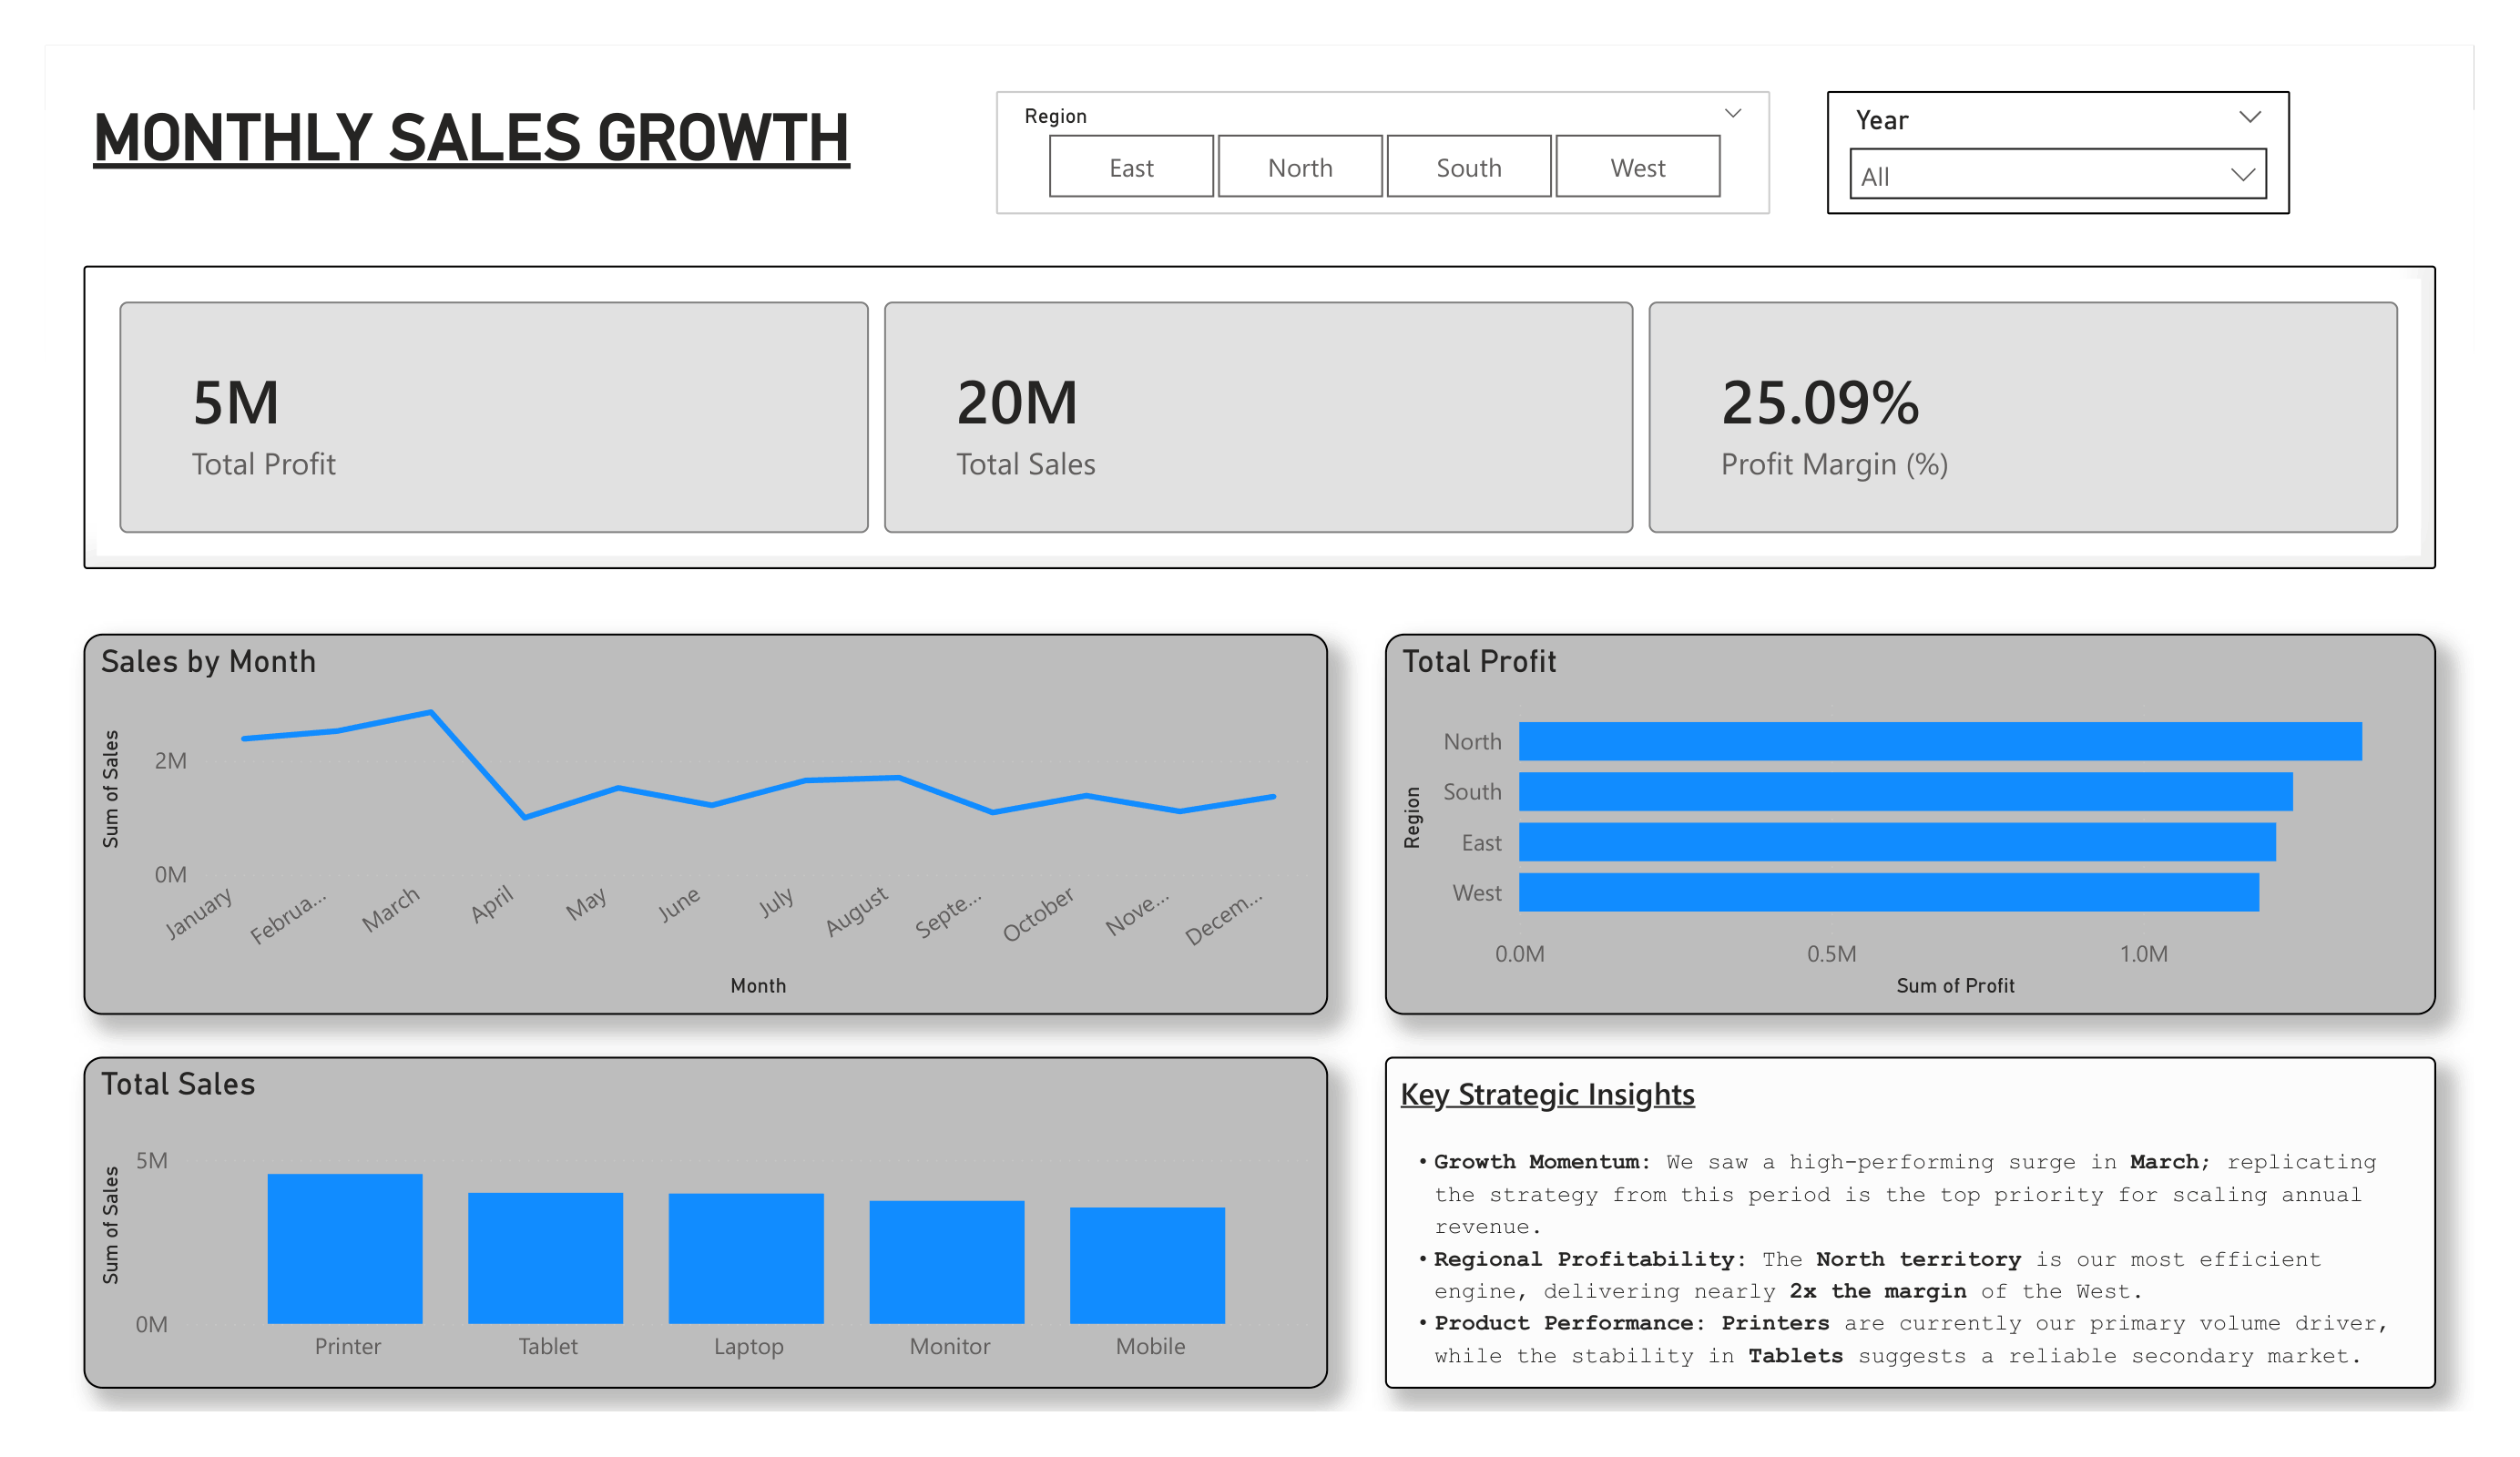

This screenshot's page, from the dashboard's own definition file:
{"tool":"powerbi","page":{"name":"Page 1","canvas":[1280,720],"ordinal":0},"visuals":[{"type":"cardVisual","fields":{"Data":["Sum(salesdb sales_data.Profit)","Sum(salesdb sales_data.Sales)","Avg(salesdb sales_data.% of Profit on Sales)"]},"box":[20,115.7,1240,160],"z":0},{"type":"lineChart","title":"Sales by Month","fields":{"Y":["Sum(salesdb sales_data.Sales)"],"Category":["salesdb sales_data.Order_Date.Variation.Date Hierarchy.Month"]},"box":[20,310,655.7,201.4],"z":1000},{"type":"barChart","title":"Total Profit","fields":{"Y":["Sum(salesdb sales_data.Profit)"],"Category":["salesdb sales_data.Region"]},"box":[705.7,310,554.3,201.4],"z":2000},{"type":"clusteredColumnChart","title":"Total Sales","fields":{"Y":["Sum(salesdb sales_data.Sales)"],"Category":["salesdb sales_data.Product"]},"box":[20,532.5,656.2,175],"z":3000},{"type":"slicer","fields":{"Values":["salesdb sales_data.Order_Date.Variation.Date Hierarchy.Year"]},"box":[938.6,24.3,244.3,64.3],"z":4000},{"type":"slicer","fields":{"Values":["salesdb sales_data.Region"]},"box":[501.4,24.3,407.1,64.3],"z":5000},{"type":"textbox","box":[20,24.3,461.4,64.3],"z":6000},{"type":"textbox","box":[706,533,554,175],"z":7000}]}

Visuals, with their boxes in screenshot pixels (x1, y1, x2, y2):
cardVisual - Sum(salesdb sales_data.Profit) x Sum(salesdb sales_data.Sales): {"left": 103, "top": 262, "right": 2425, "bottom": 562}
"Sales by Month" lineChart: {"left": 103, "top": 627, "right": 1331, "bottom": 1004}
"Total Profit" barChart: {"left": 1387, "top": 627, "right": 2425, "bottom": 1004}
"Total Sales" clusteredColumnChart: {"left": 103, "top": 1043, "right": 1332, "bottom": 1370}
slicer - salesdb sales_data.Order_Date.Variation.Date Hierarchy.Year: {"left": 1823, "top": 91, "right": 2280, "bottom": 212}
slicer - salesdb sales_data.Region: {"left": 1005, "top": 91, "right": 1767, "bottom": 212}
textbox: {"left": 103, "top": 91, "right": 967, "bottom": 212}
textbox: {"left": 1388, "top": 1044, "right": 2425, "bottom": 1371}
